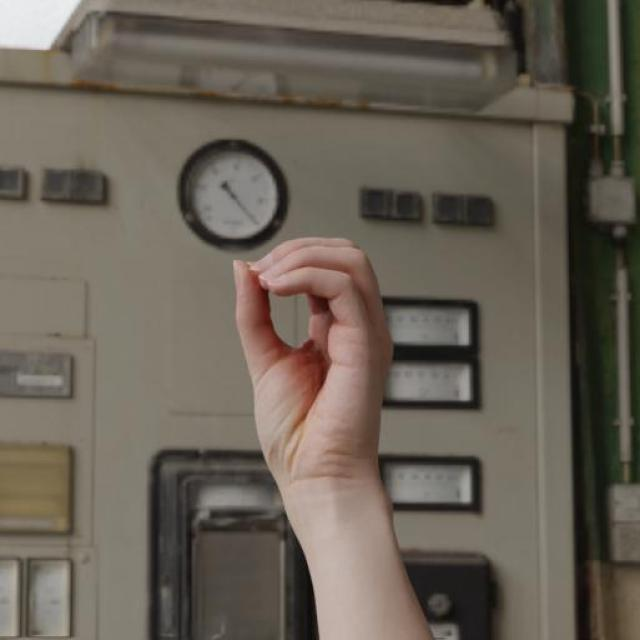O: (227, 233, 397, 493)
